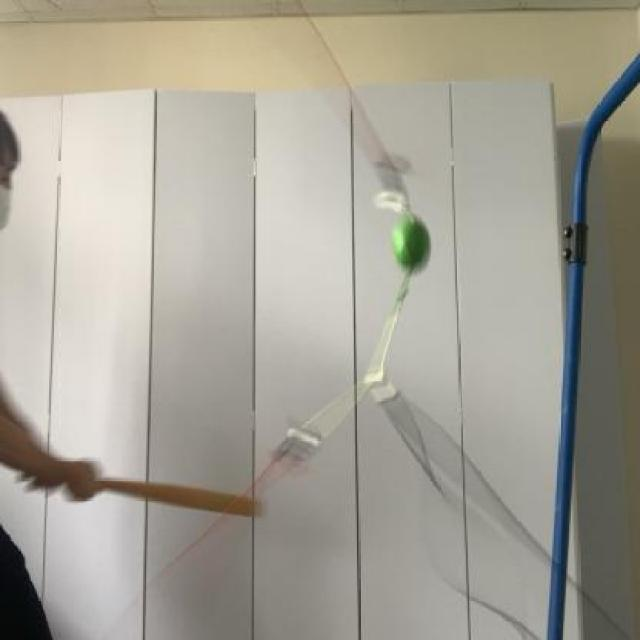baseball: (384, 204, 434, 281)
